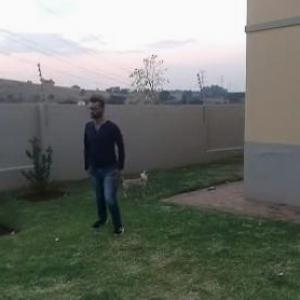follow: (82, 93, 130, 238)
